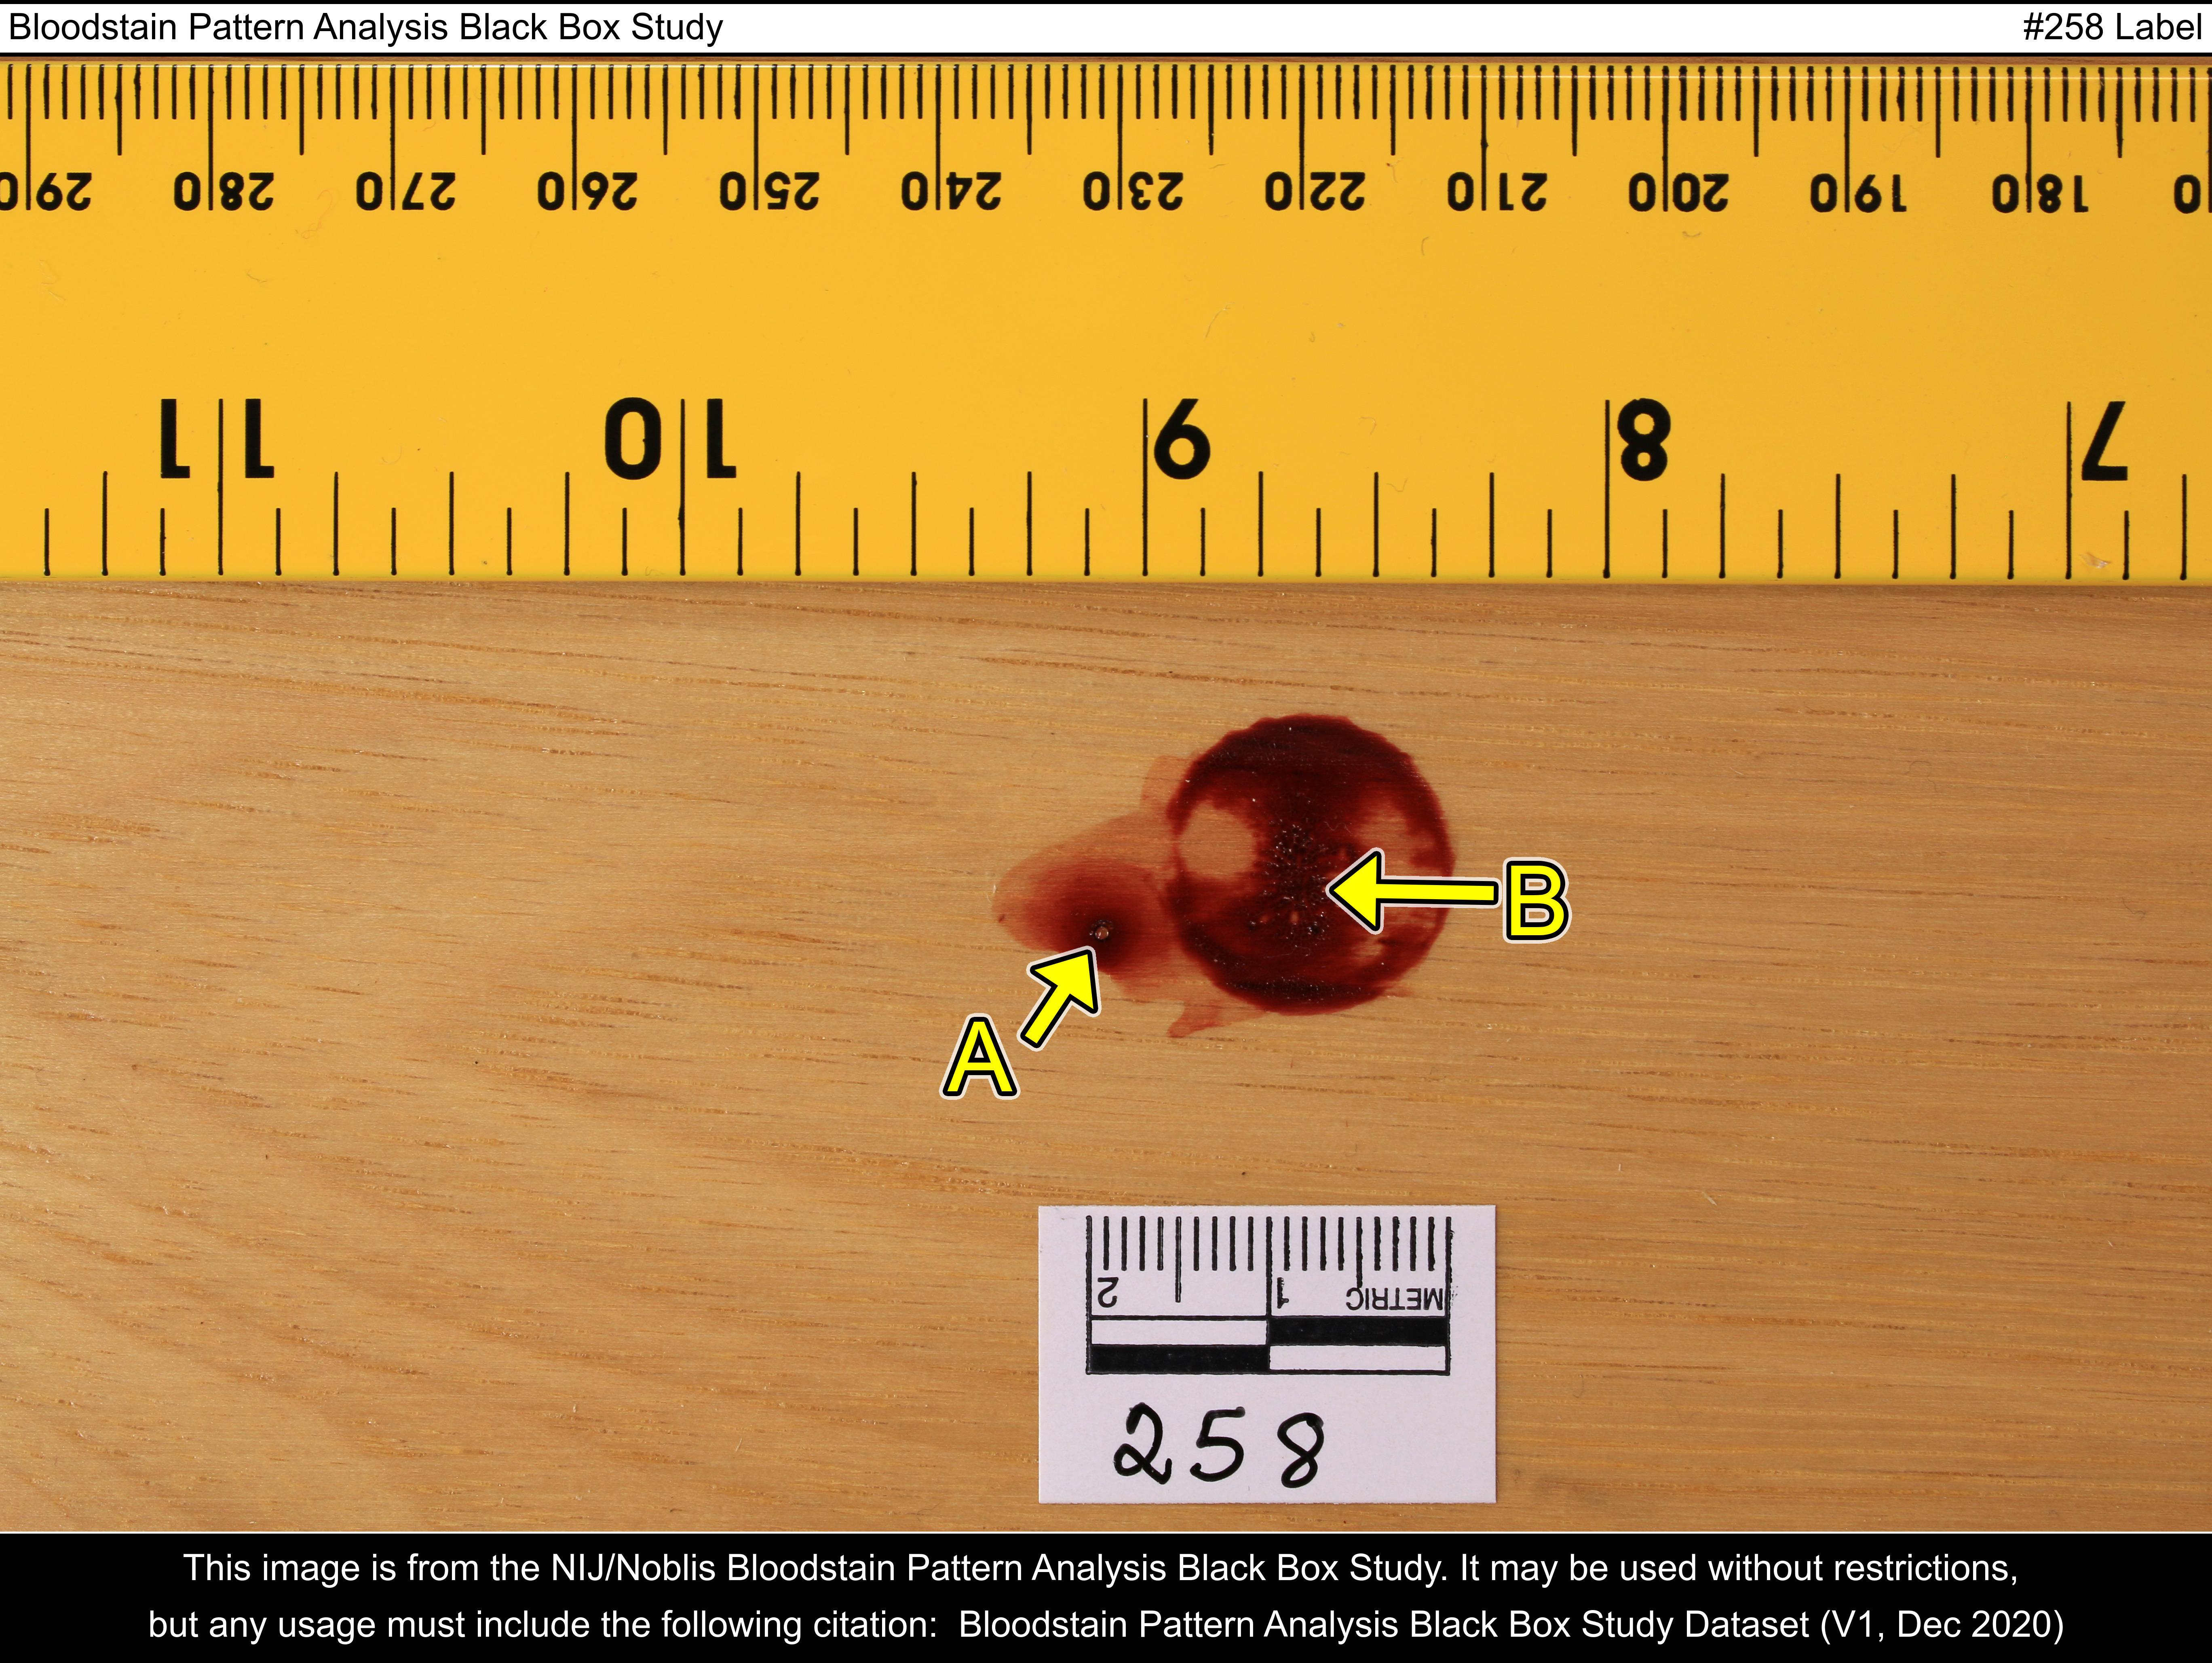Passive: (986, 699, 1463, 1055)
